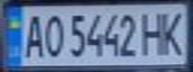2: (118, 9, 142, 58)
4: (84, 10, 106, 57), (103, 10, 124, 57)
5: (66, 10, 87, 58)
A: (18, 10, 48, 60)
H: (139, 8, 169, 56)
K: (157, 7, 190, 56)
O: (39, 10, 66, 58)
